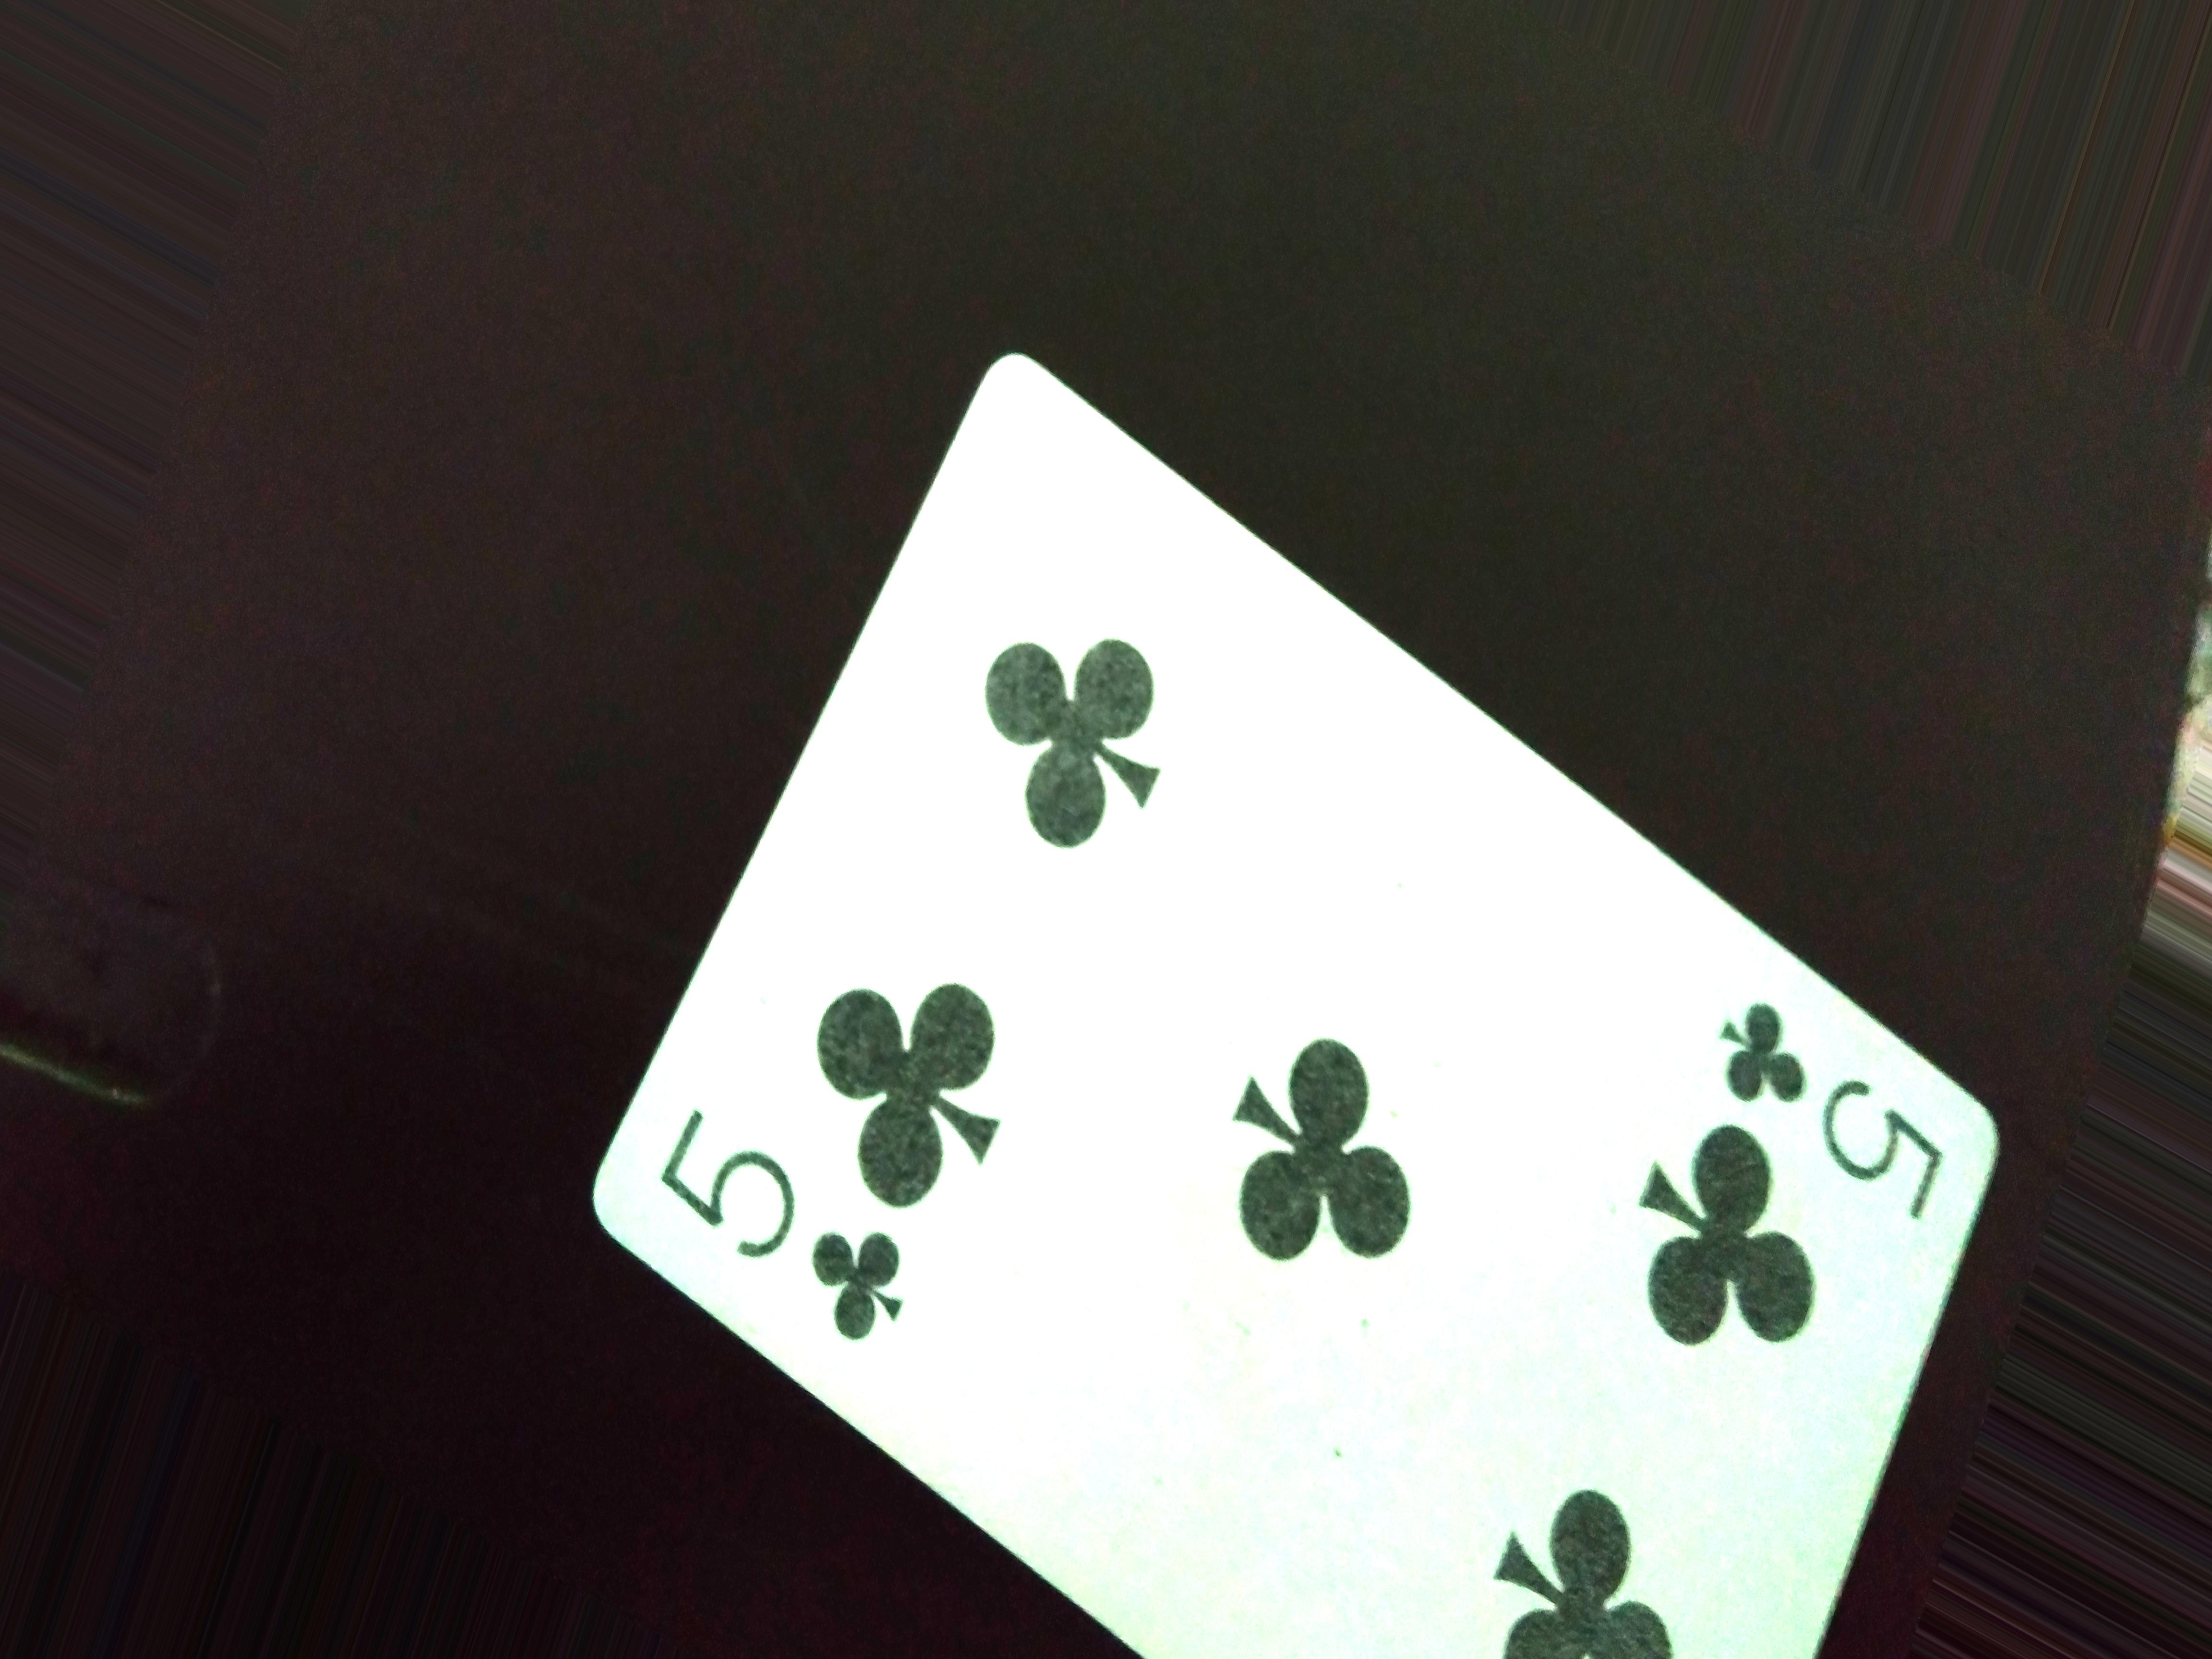5C: (641, 1098, 906, 1354)
